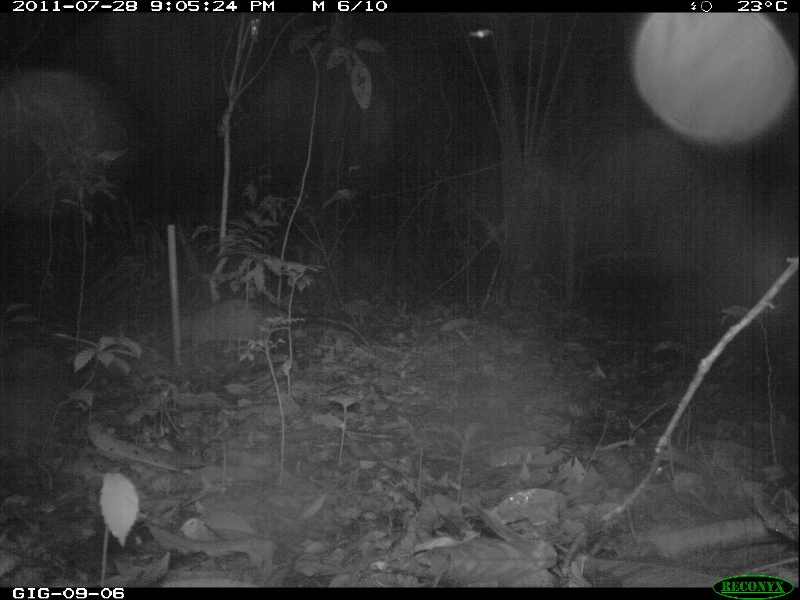opossum: (166, 298, 377, 359)
